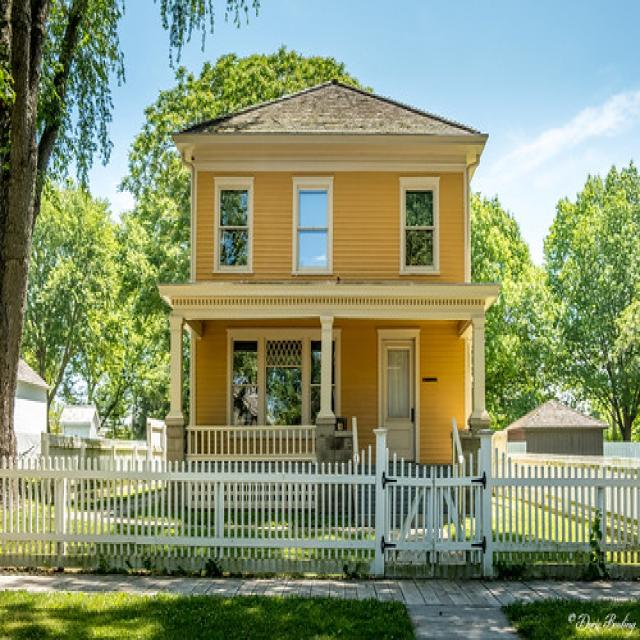building: (155, 81, 502, 551)
